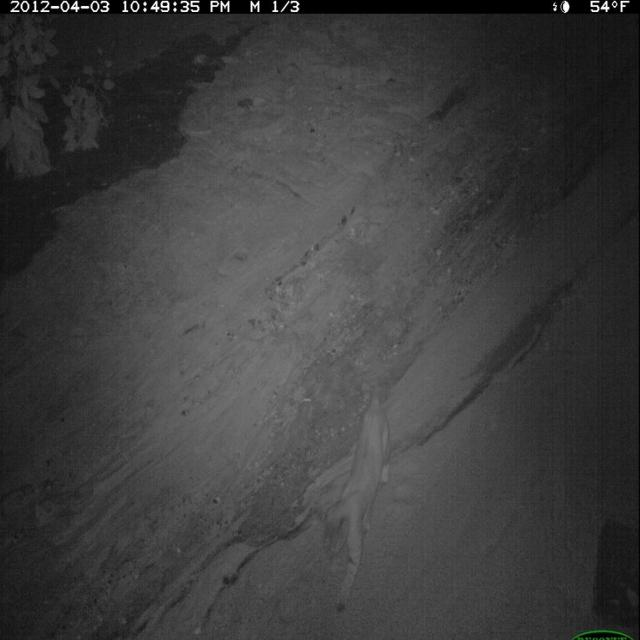bobcat: (312, 379, 395, 614)
